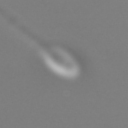normal: (1, 7, 44, 47)
